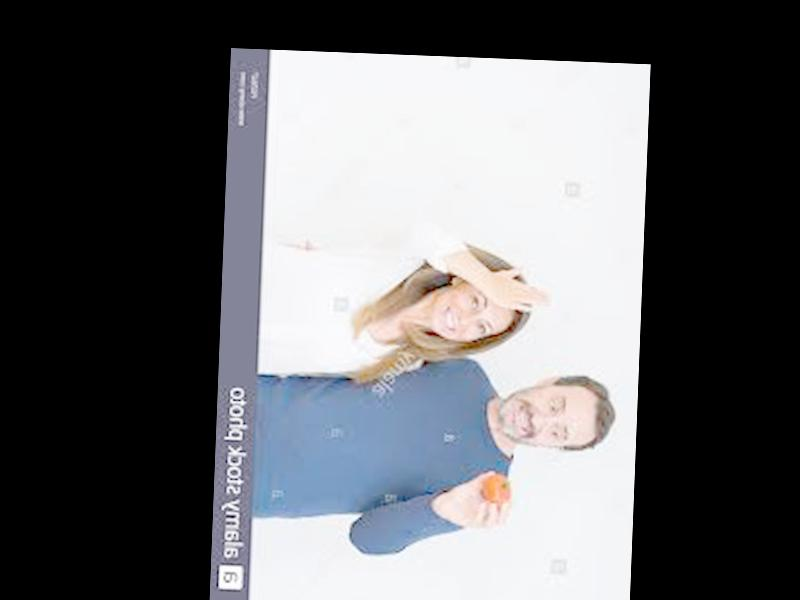Tomato: (483, 474, 514, 503)
